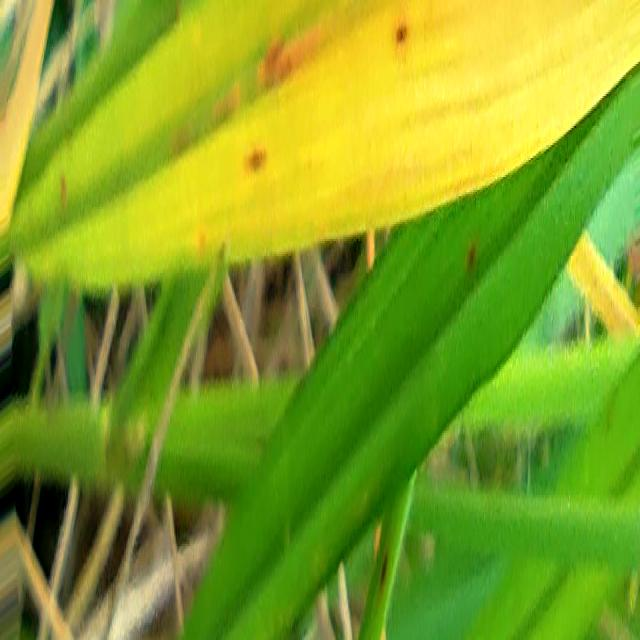NBS: (260, 27, 286, 81), (245, 147, 267, 168), (396, 24, 407, 43)
